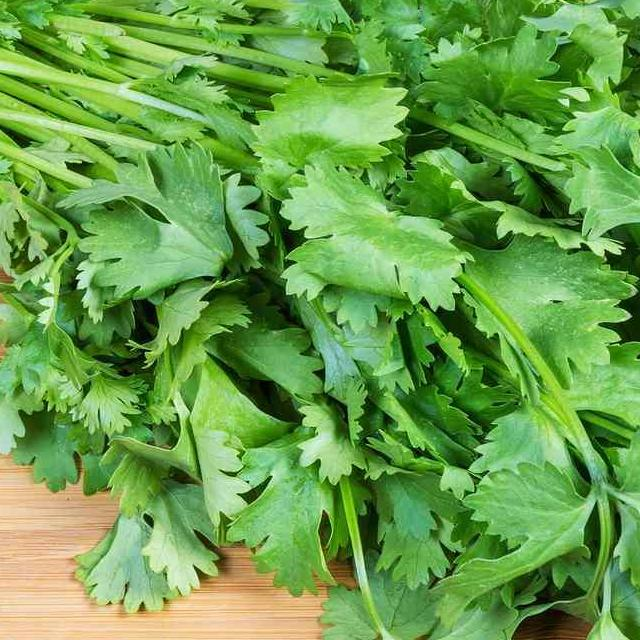cilantro: (110, 0, 640, 640)
